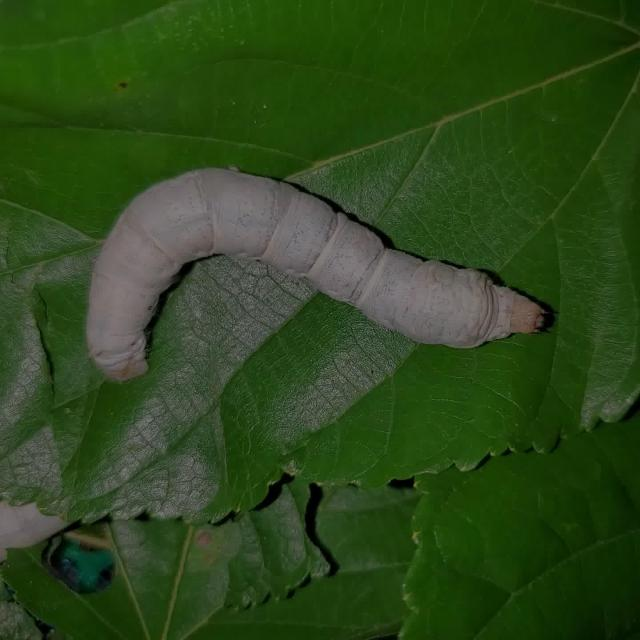Healthy: (72, 154, 554, 392)
